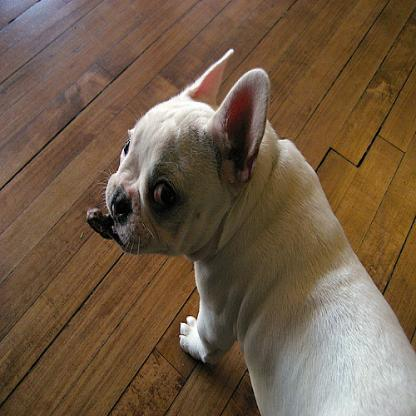French_bulldog: (84, 45, 414, 414)
